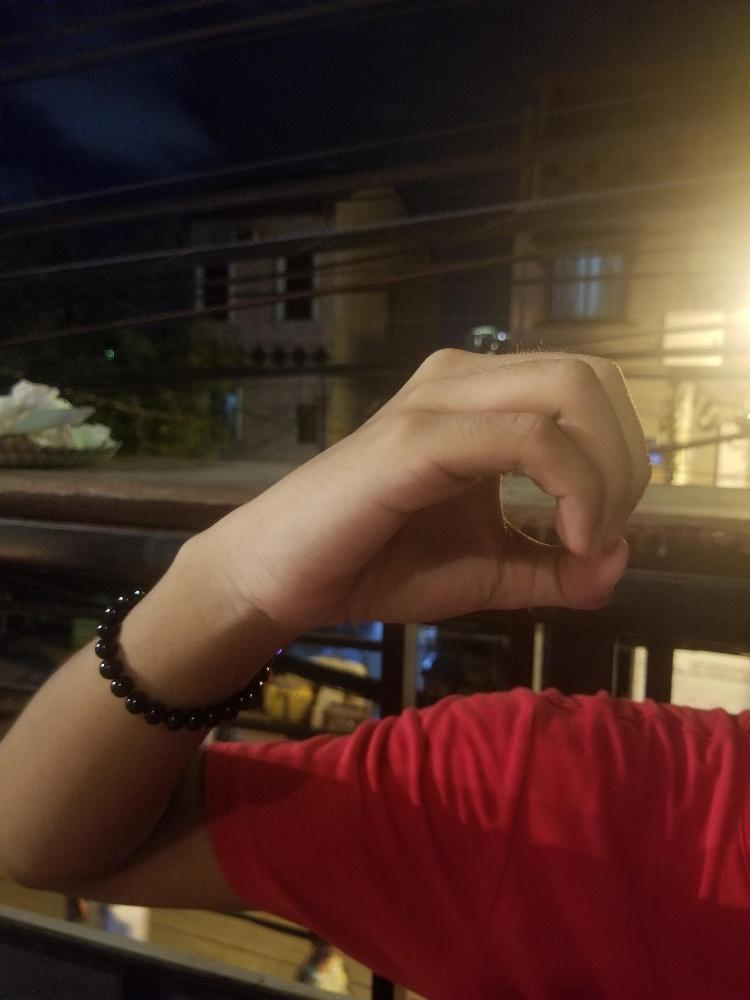o: (302, 344, 652, 622)
